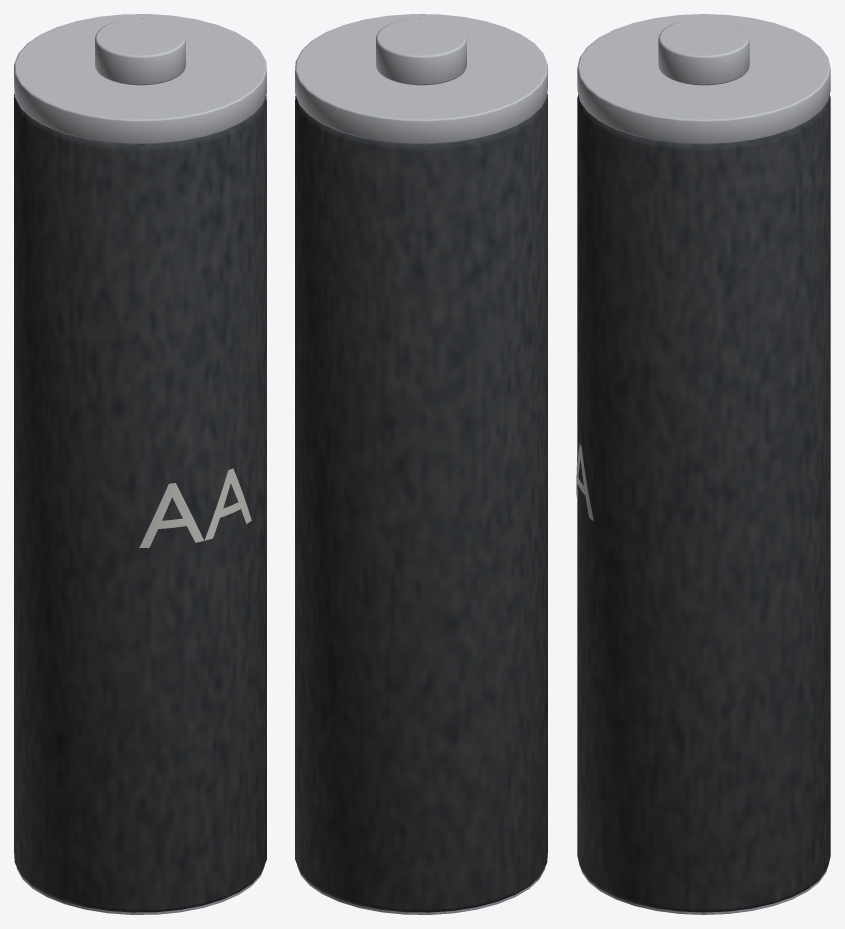
Rendered from BatteryAA-v1.fbx.
3 views of the same model, side by side, from view 1: azimuth 30°, elevation 25°; view 2: azimuth 150°, elevation 25°; view 3: azimuth 270°, elevation 25° (orthographic).
Visible parts, largest first — view 1: PW_BatteryAA; view 2: PW_BatteryAA; view 3: PW_BatteryAA.
Boxes of the visible parts, x1,y1,x2,y2 form: PW_BatteryAA: (14, 14, 266, 914); PW_BatteryAA: (295, 14, 547, 914); PW_BatteryAA: (576, 14, 830, 914).
Bounding box in the file's own units: 1.4 × 5.03 × 1.41.
1 material, 1 textured.
